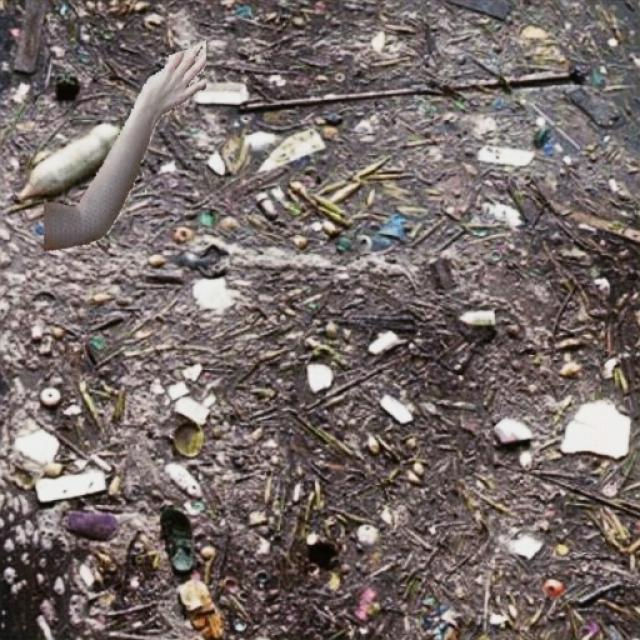Person in Rubble: (44, 40, 205, 250)
